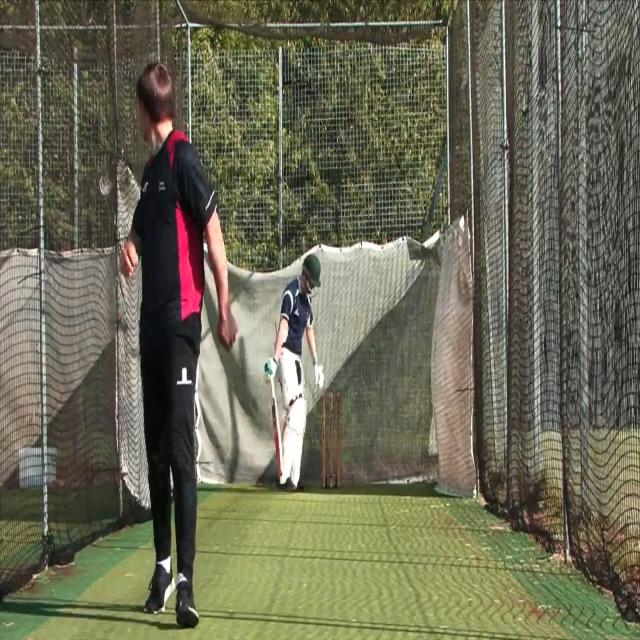batsman: (263, 252, 326, 494)
